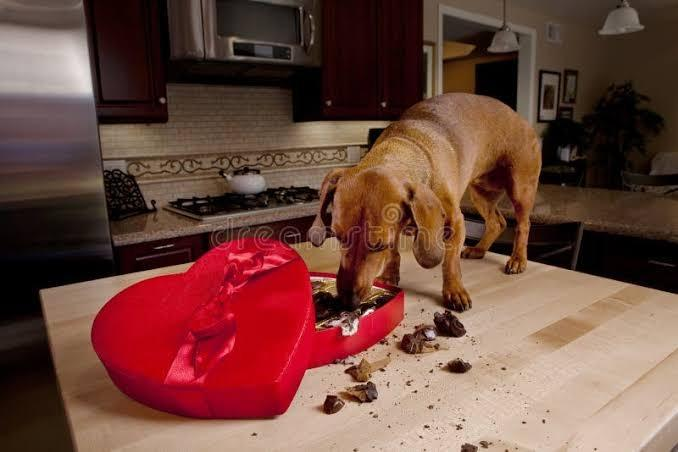adult_dog: (310, 91, 543, 313)
